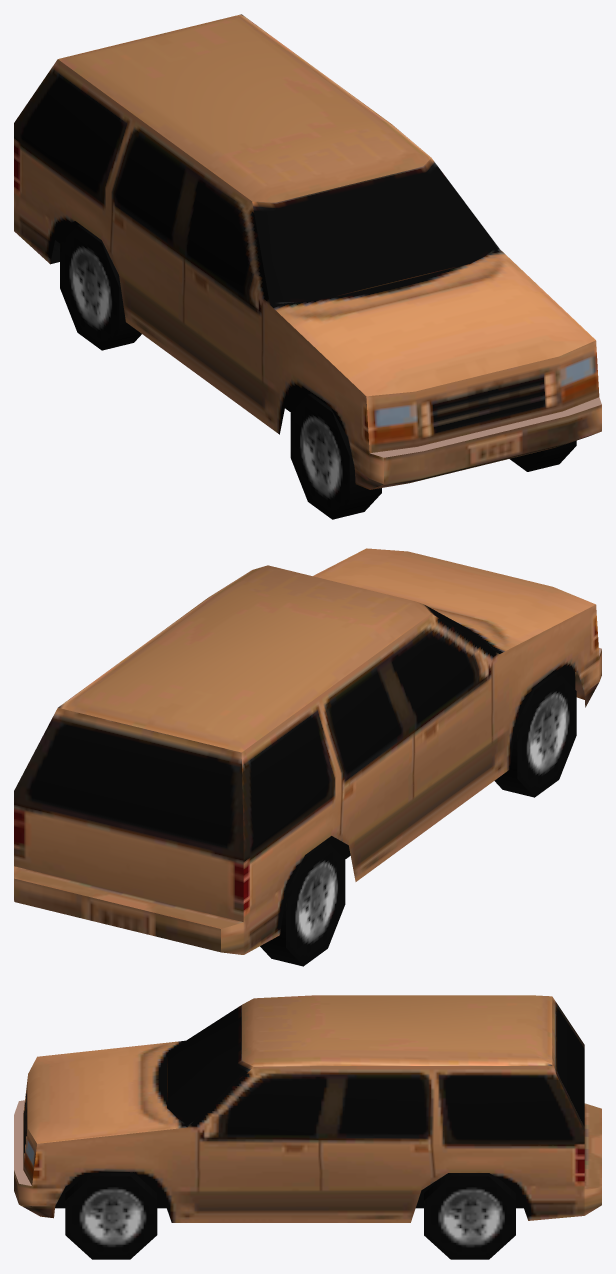
File: Car_FordExplorer.fbx
The picture shows the model from 3 angles, top to bottom: view 1: azimuth 30°, elevation 25°; view 2: azimuth 150°, elevation 25°; view 3: azimuth 270°, elevation 25°; orthographic projection. The views are drawn at different scales.
Parts seen in each view (by area): view 1: Car_FordExplorer; view 2: Car_FordExplorer; view 3: Car_FordExplorer.
Boxes of the visible parts, x1=… form: Car_FordExplorer: x1=14, y1=14, x2=601, y2=519; Car_FordExplorer: x1=14, y1=548, x2=601, y2=966; Car_FordExplorer: x1=14, y1=995, x2=601, y2=1259.
Bounding box in the file's own units: 1.7 × 1.76 × 4.84.
